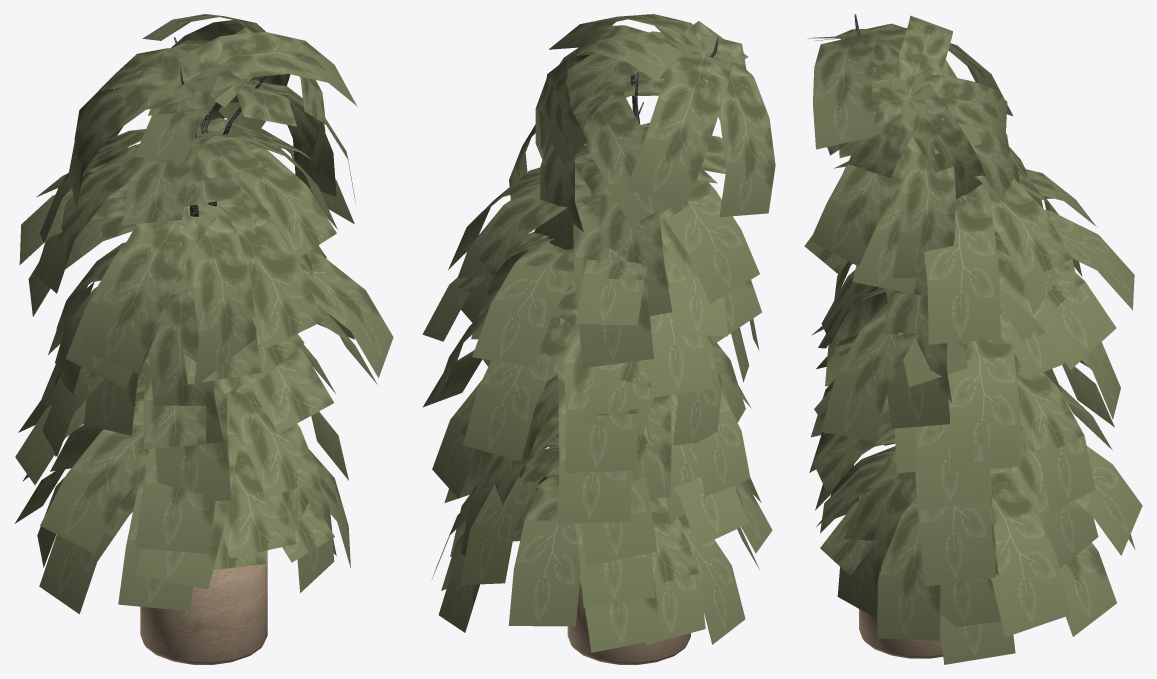
Rendered from Standing_Plant.fbx.
The picture shows the model from 3 angles, left to right: view 1: azimuth 30°, elevation 25°; view 2: azimuth 150°, elevation 25°; view 3: azimuth 270°, elevation 25°; orthographic projection. The views are drawn at different scales.
Parts seen in each view (by area): view 1: Leaves_Top, Leaves_Bottom; view 2: Leaves_Bottom, Leaves_Top; view 3: Leaves_Bottom, Leaves_Top.
Part boxes in pixels (box(x1,y1,x2,y2)): Leaves_Top: box(15, 14, 393, 664); Leaves_Bottom: box(15, 14, 379, 664); Leaves_Bottom: box(422, 14, 775, 664); Leaves_Top: box(424, 15, 775, 664); Leaves_Bottom: box(806, 14, 1142, 663); Leaves_Top: box(804, 14, 1135, 664).
Bounding box in the file's own units: 1.48 × 2.73 × 1.38.
